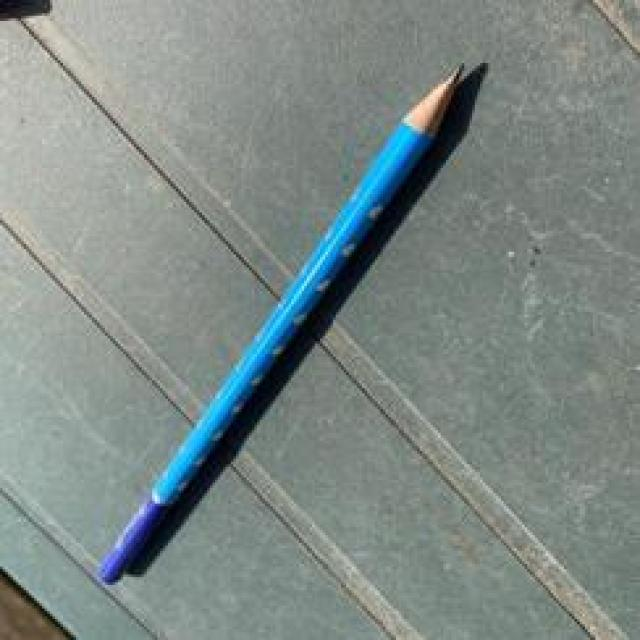pencil: (77, 47, 503, 615)
